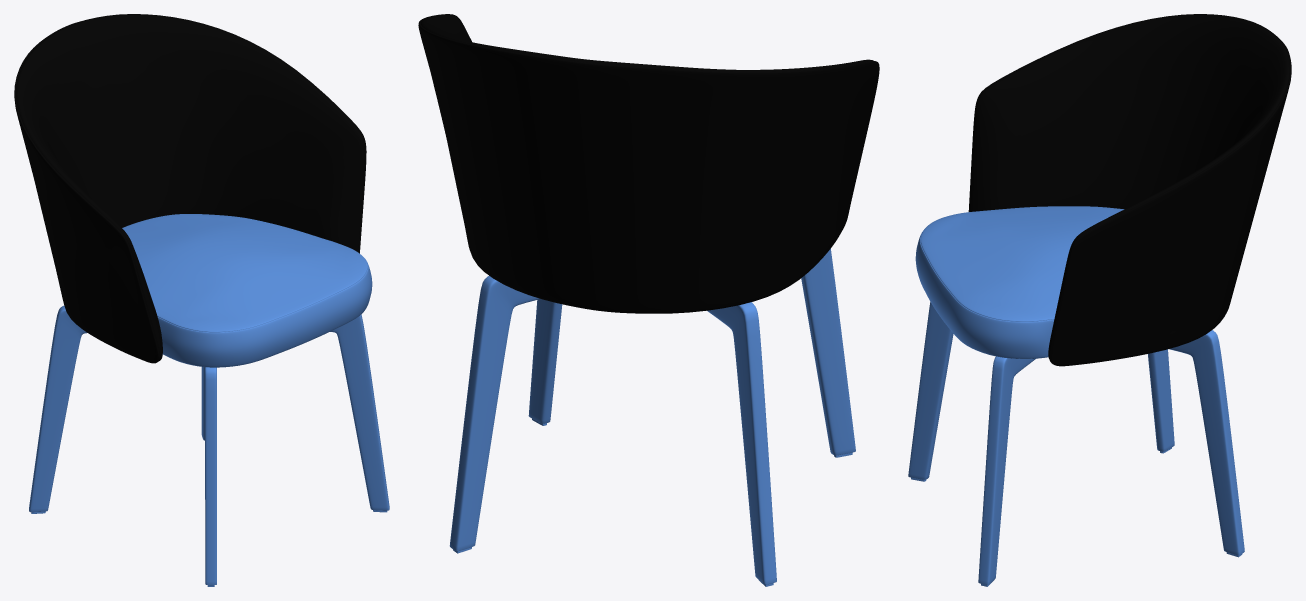
File: final chair.obj
3 views of the same model, side by side, from view 1: azimuth 30°, elevation 25°; view 2: azimuth 150°, elevation 25°; view 3: azimuth 270°, elevation 25° (orthographic). The views are drawn at different scales.
Visible parts, largest first — view 1: Plane007, Box002, Line011, Line013, Line010; view 2: Plane007, Line012, Line011, Line010, Line013; view 3: Plane007, Box002, Line012, Line013, Line010, Line011.
Boxes of the visible parts, bbox=[...] form: Plane007: bbox=[14, 14, 366, 363]; Box002: bbox=[122, 214, 372, 367]; Line011: bbox=[29, 305, 87, 513]; Line013: bbox=[330, 314, 389, 512]; Line010: bbox=[205, 367, 216, 586]; Plane007: bbox=[418, 14, 879, 313]; Line012: bbox=[449, 276, 540, 553]; Line011: bbox=[707, 302, 776, 586]; Line010: bbox=[801, 248, 855, 457]; Line013: bbox=[528, 299, 562, 425]; Plane007: bbox=[968, 14, 1291, 366]; Box002: bbox=[915, 206, 1124, 358]; Line012: bbox=[1169, 330, 1244, 557]; Line013: bbox=[978, 356, 1035, 586]; Line010: bbox=[908, 302, 953, 481]; Line011: bbox=[1148, 349, 1174, 453].
Bounding box in the file's own units: 23.27 × 30.46 × 23.58.
